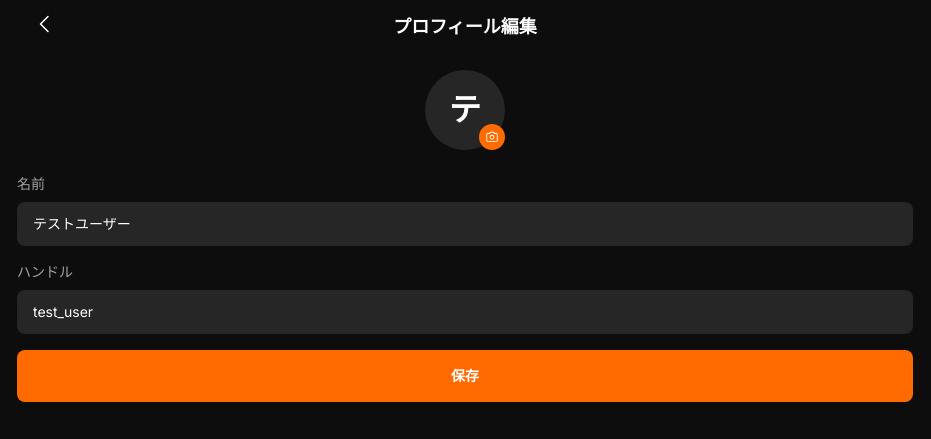
ProfileEditPage › 名前が空の場合はバリデーションエラーを表示する
// Clear name
Clear the field labelled "名前" at (465, 224), box [17,202,913,246]
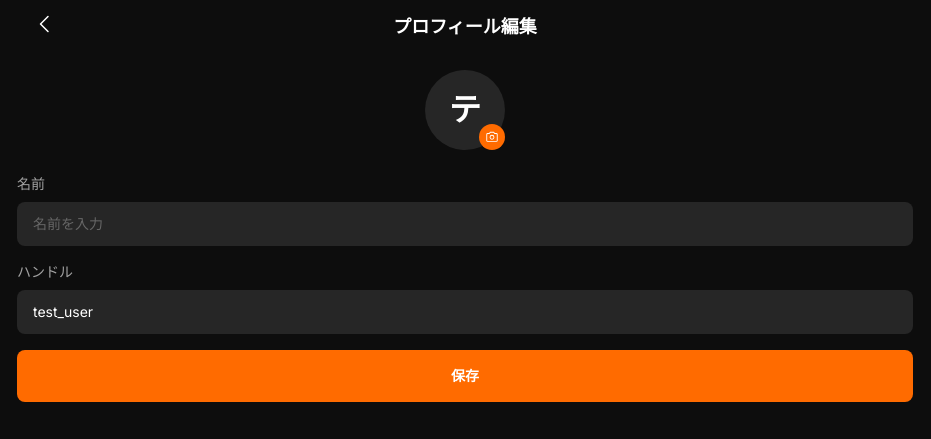
// Click save
Click the button "保存".
click(465, 376)  # box [17,350,913,402]
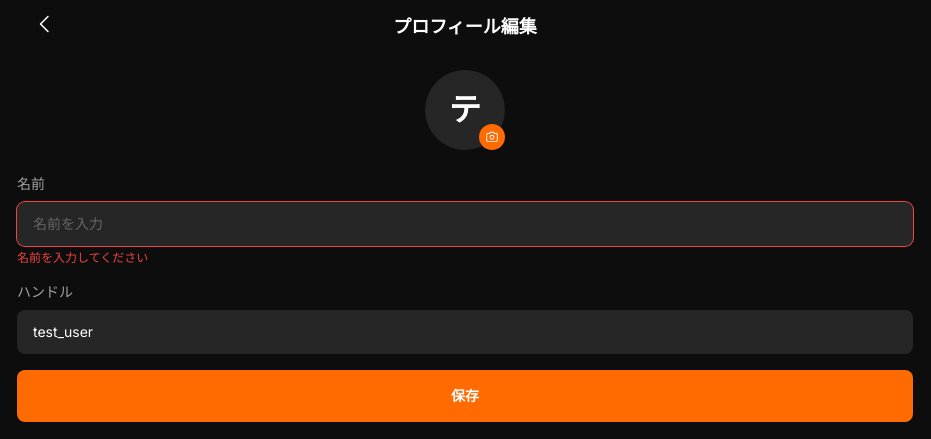
Check: the text "名前を入力してください" is shown, box [17,250,148,265]
